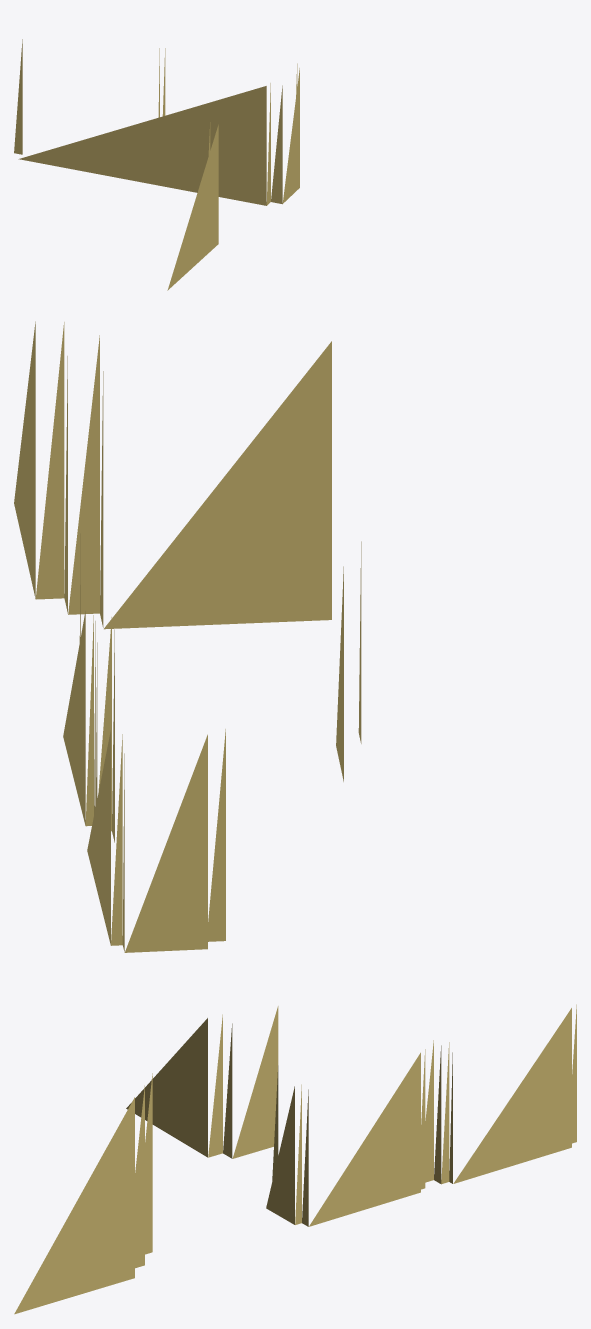
3 renders of one model, top to bottom at view 1: azimuth 30°, elevation 25°; view 2: azimuth 150°, elevation 25°; view 3: azimuth 270°, elevation 25°, orthographic. The views are drawn at different scales.
Size of the model in its own units: 134 by 55 by 155.
